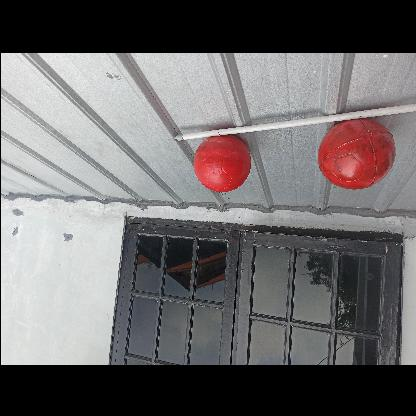red_ball: (318, 114, 392, 190), (192, 134, 250, 192)
